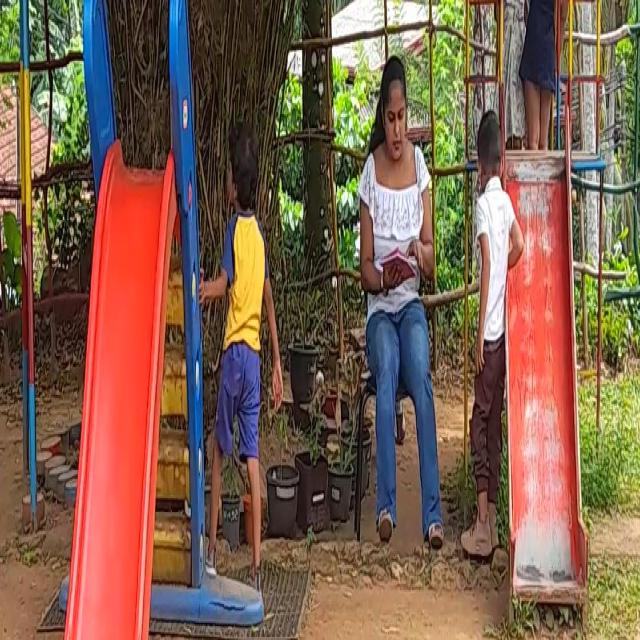adult: (342, 47, 444, 524)
child: (199, 113, 283, 589), (460, 116, 523, 564), (524, 0, 584, 159), (498, 0, 540, 105)
